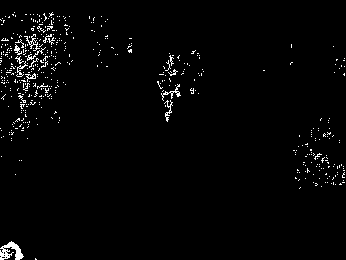person: (158, 65, 178, 122)
